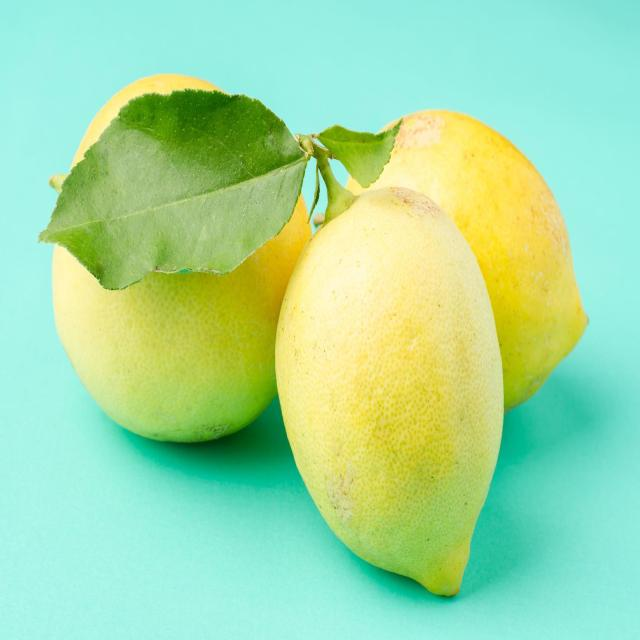lemon: (270, 170, 510, 607)
